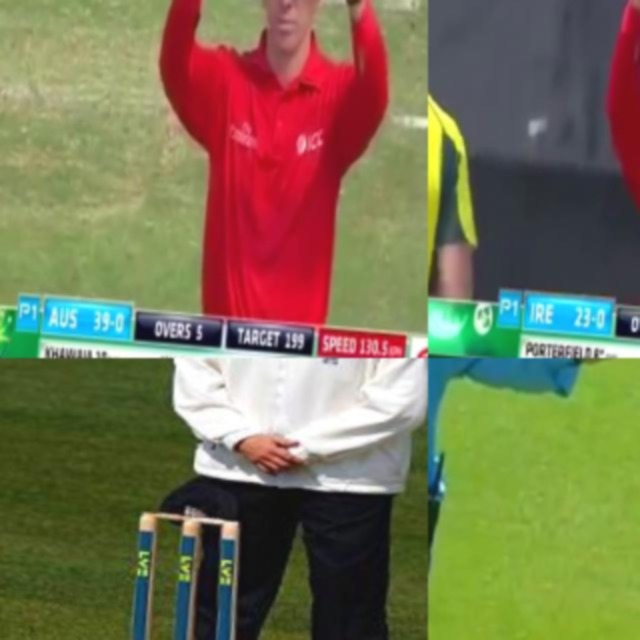No_Action: (125, 358, 428, 640)
No_Ball: (428, 358, 640, 640)
Six: (129, 0, 415, 336), (583, 0, 640, 328)
